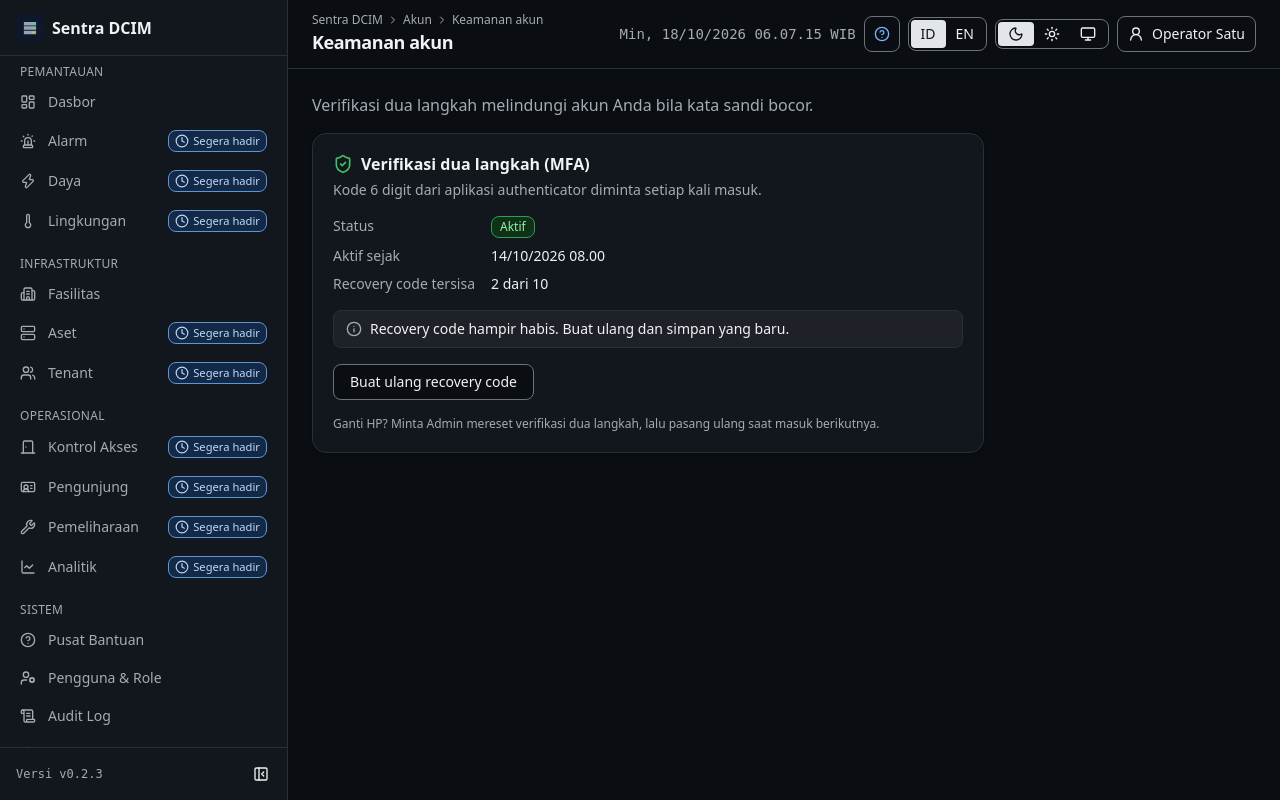
Test case: MFA › account security: status, and new recovery codes after a current code
Expected: the text with test id "mfa-status" reads "Aktif", [500,218,526,235]
Expected: the text with test id "recovery-remaining" reads "2 dari 10", [491,274,548,293]
Click the button with test id "regenerate-recovery".
click(433, 382)  # box [333,364,534,400]
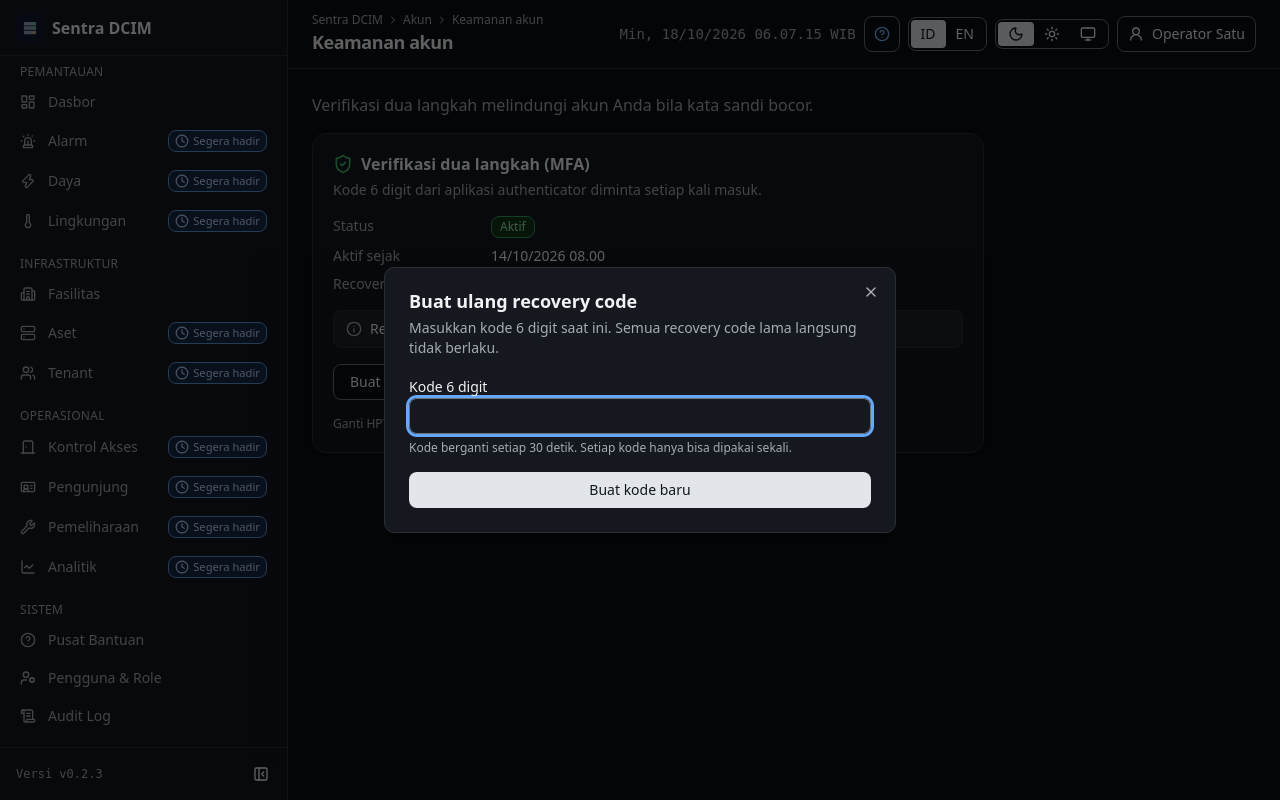
Type "999999" into the field labelled "Kode 6 digit".
click(640, 416); type("999999")  # box [409,398,871,434]
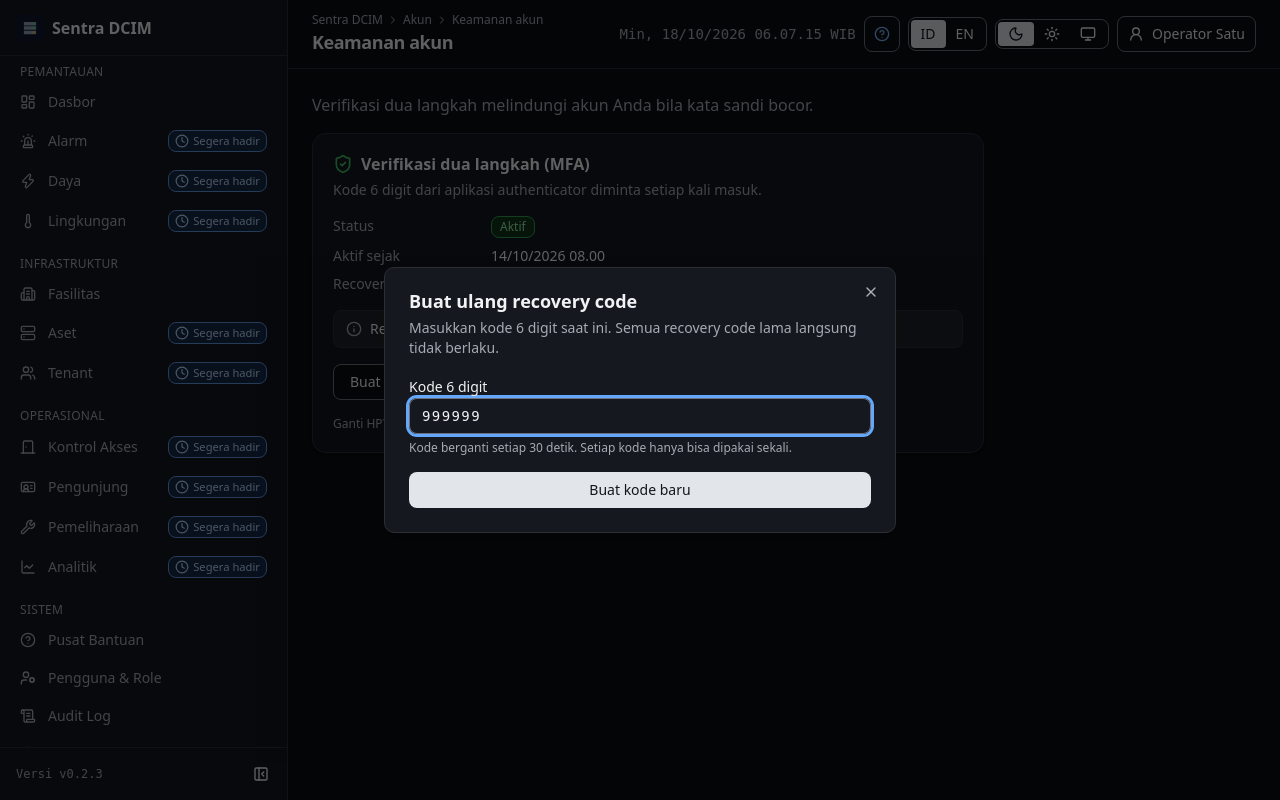
Click the button "Buat kode baru".
click(640, 490)  # box [409,472,871,508]
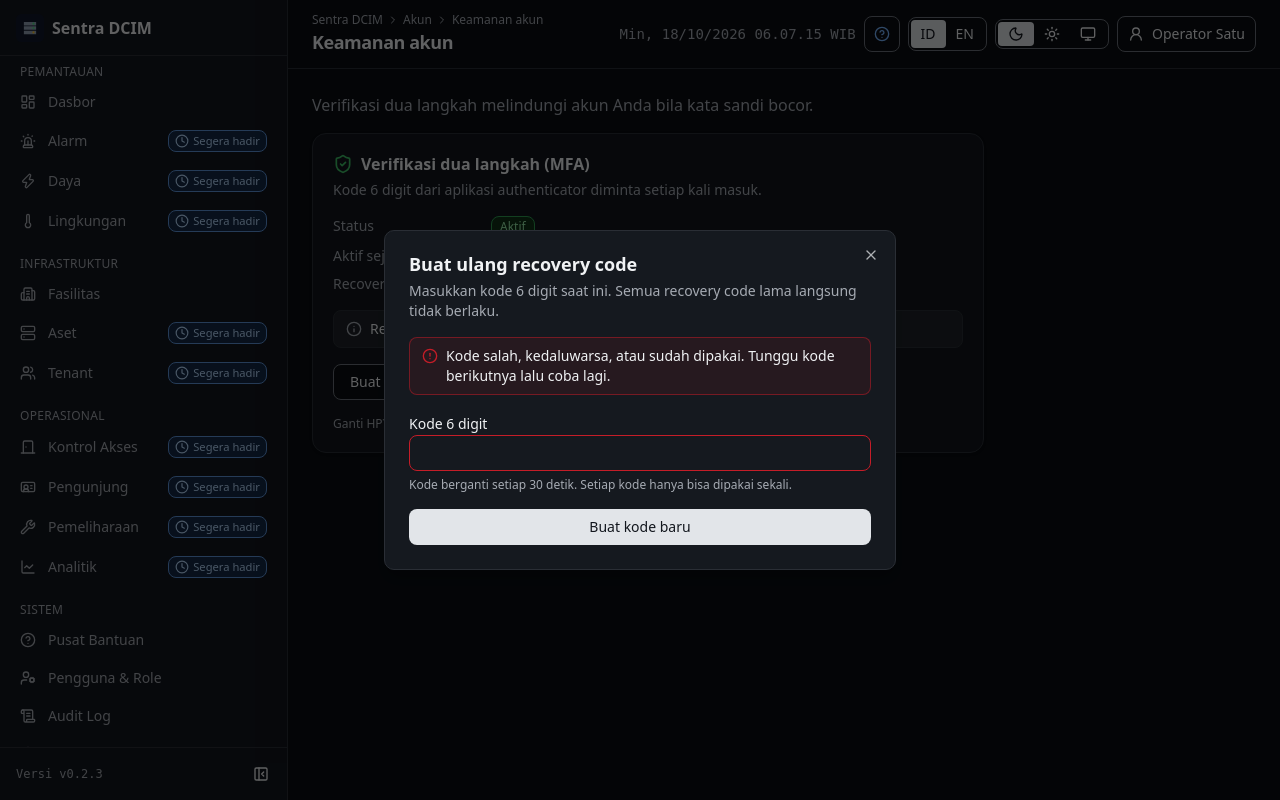
Expected: the message shows "Kode salah, kedaluwarsa, atau sudah dipakai. Tunggu kode berikutnya lalu coba lagi.", [446,346,835,385]
Type "123456" into the field labelled "Kode 6 digit".
click(640, 453); type("123456")  # box [409,435,871,471]
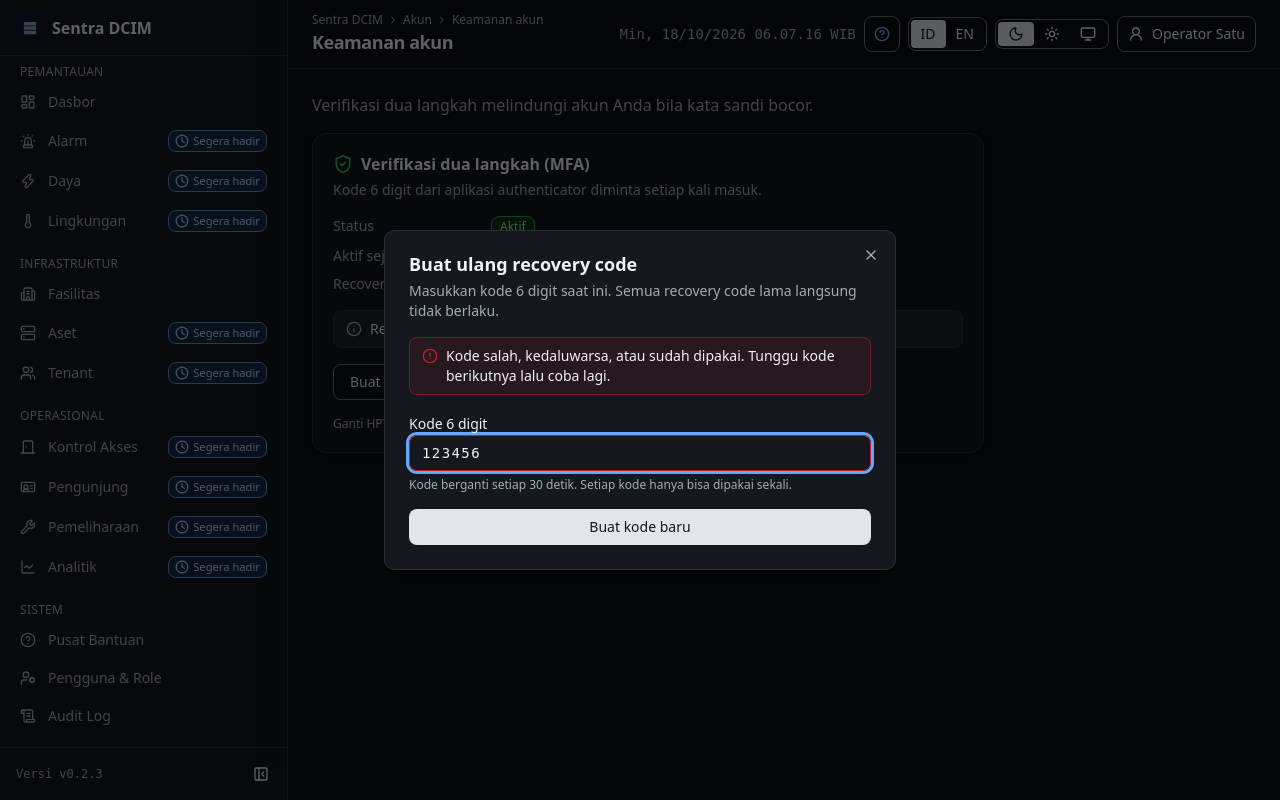
Click the button "Buat kode baru".
click(640, 527)  # box [409,509,871,545]
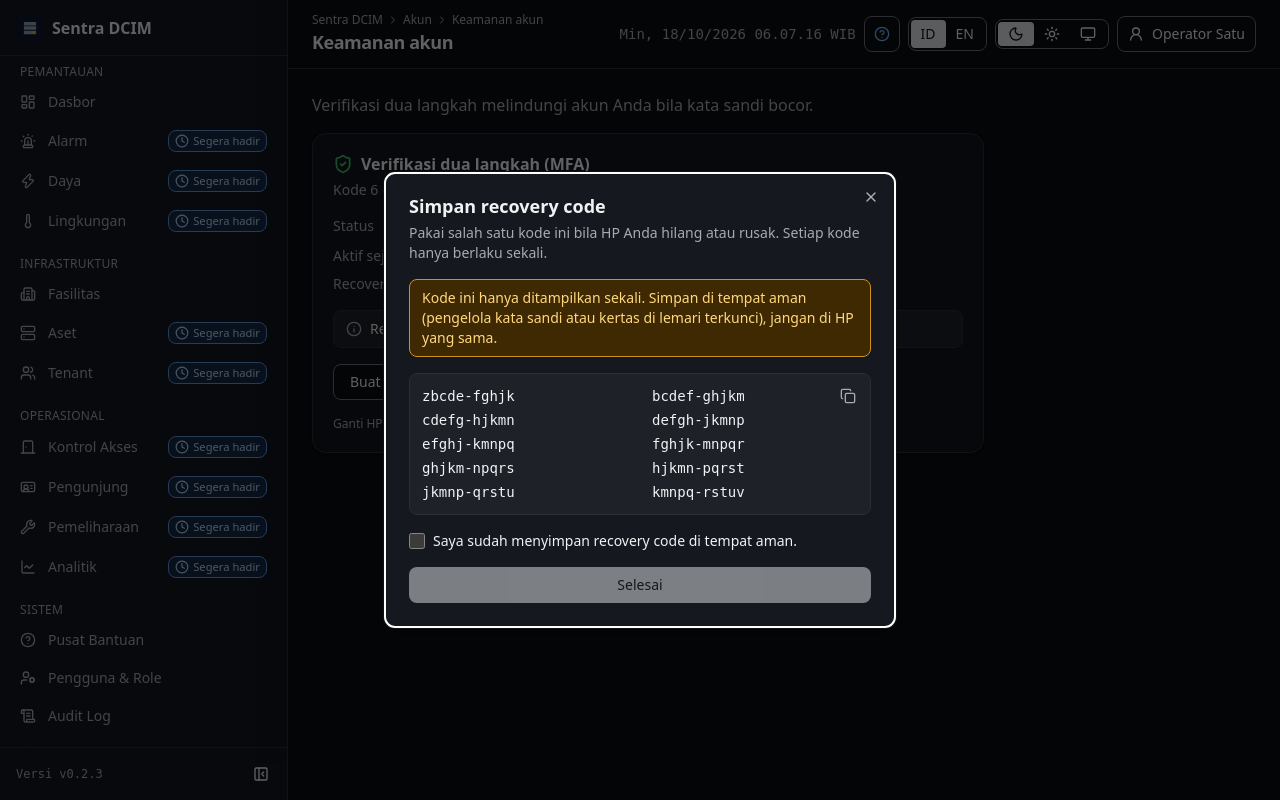
Expected: the number of list items with test id "recovery-code" is 10
